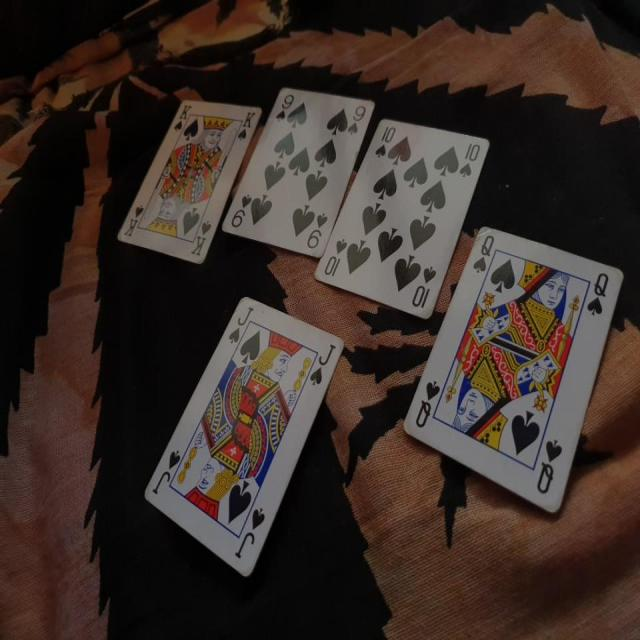10 Spades: (313, 118, 497, 329)
9 Spades: (222, 81, 376, 262)
J Spades: (128, 287, 354, 586)
K Spades: (114, 90, 264, 274)
Q Spades: (406, 222, 624, 518)
